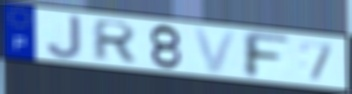7: (298, 40, 335, 82)
8: (148, 24, 183, 69)
F: (239, 29, 293, 81)
J: (45, 13, 84, 60)
R: (90, 18, 139, 64)
V: (191, 26, 240, 75)
